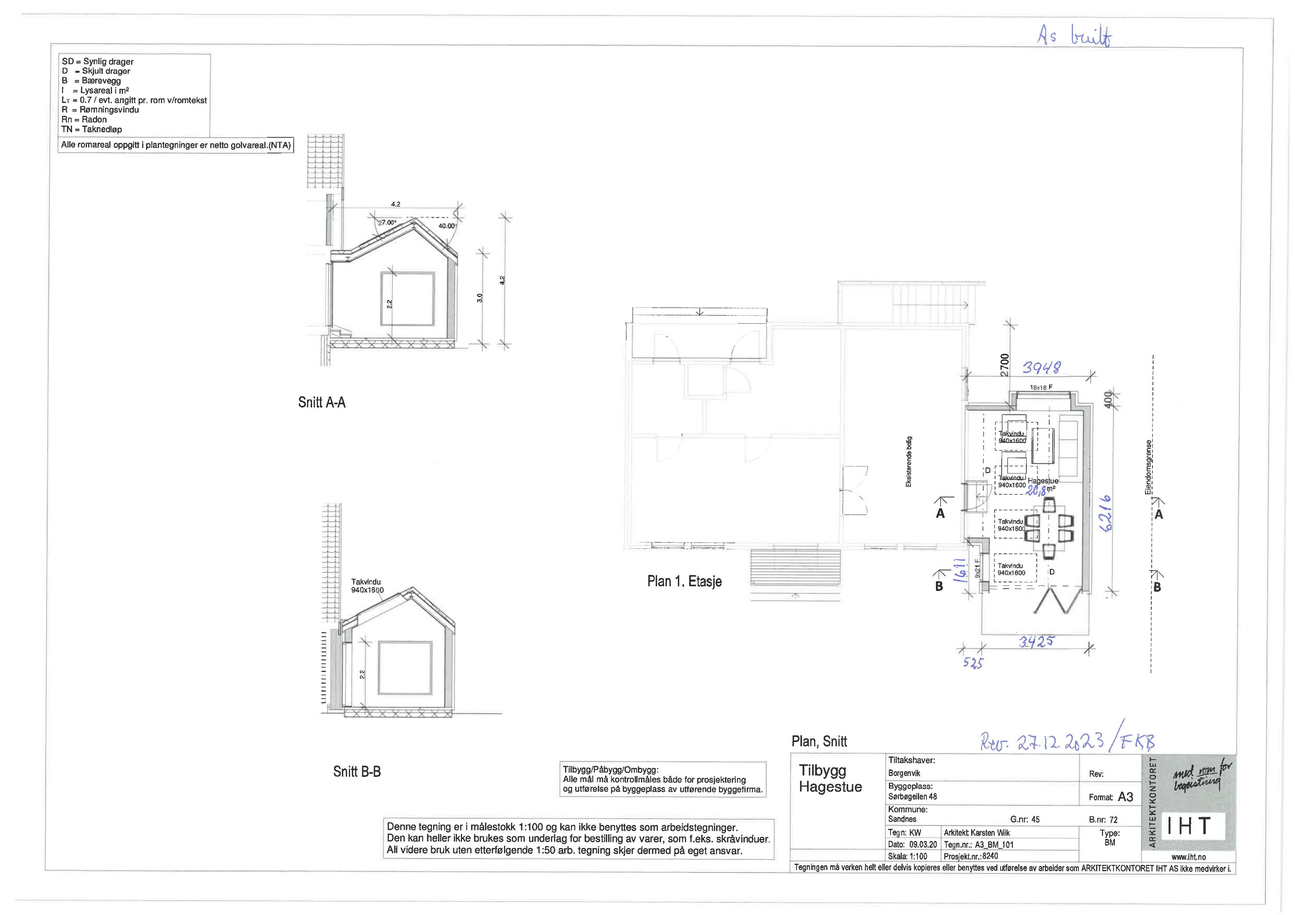plantegning: (961, 388, 1095, 637)
snitt: (306, 132, 471, 368), (320, 501, 457, 721)
